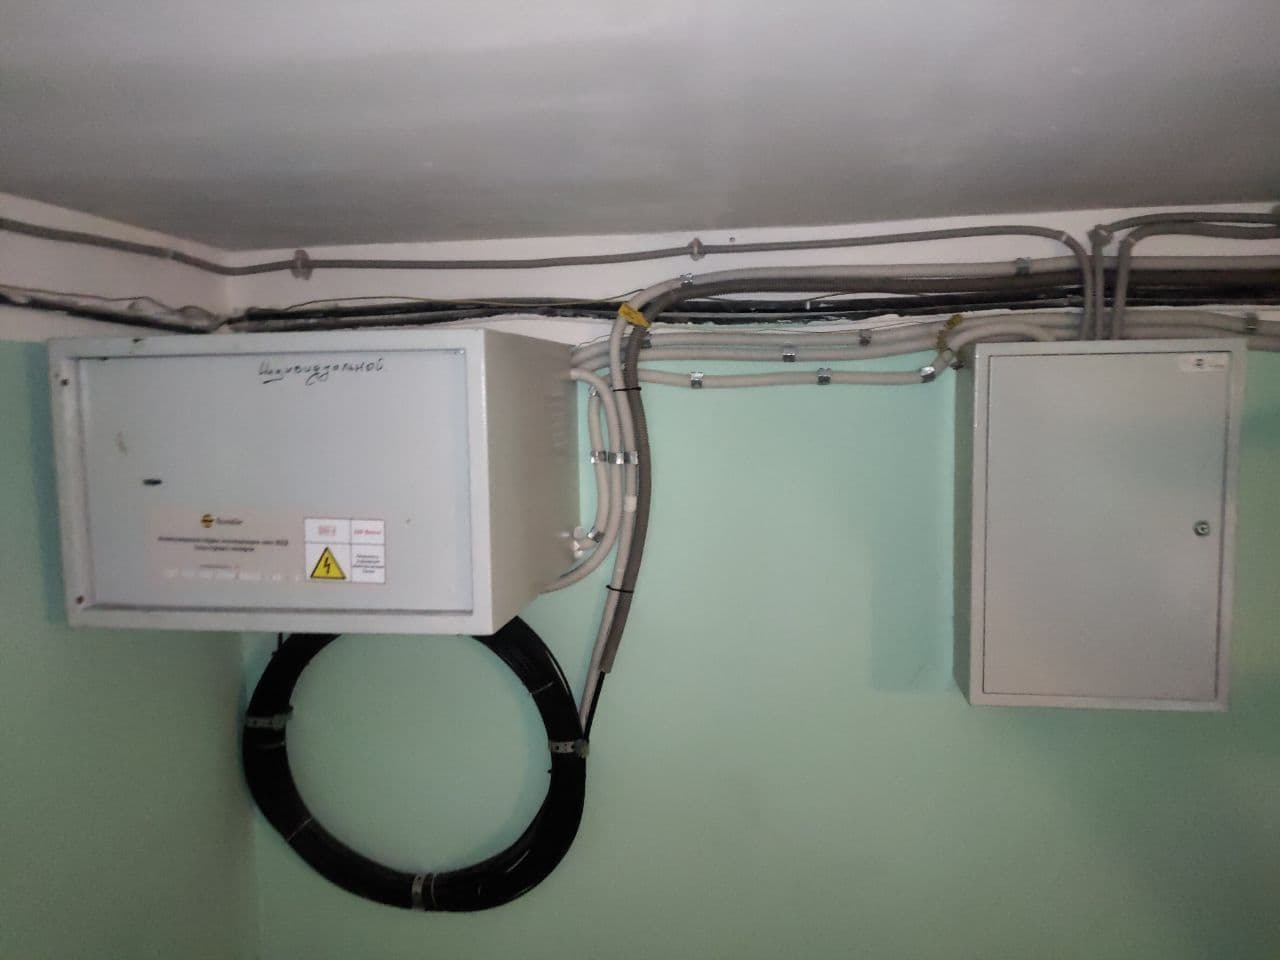shta-7m: (36, 325, 589, 645)
